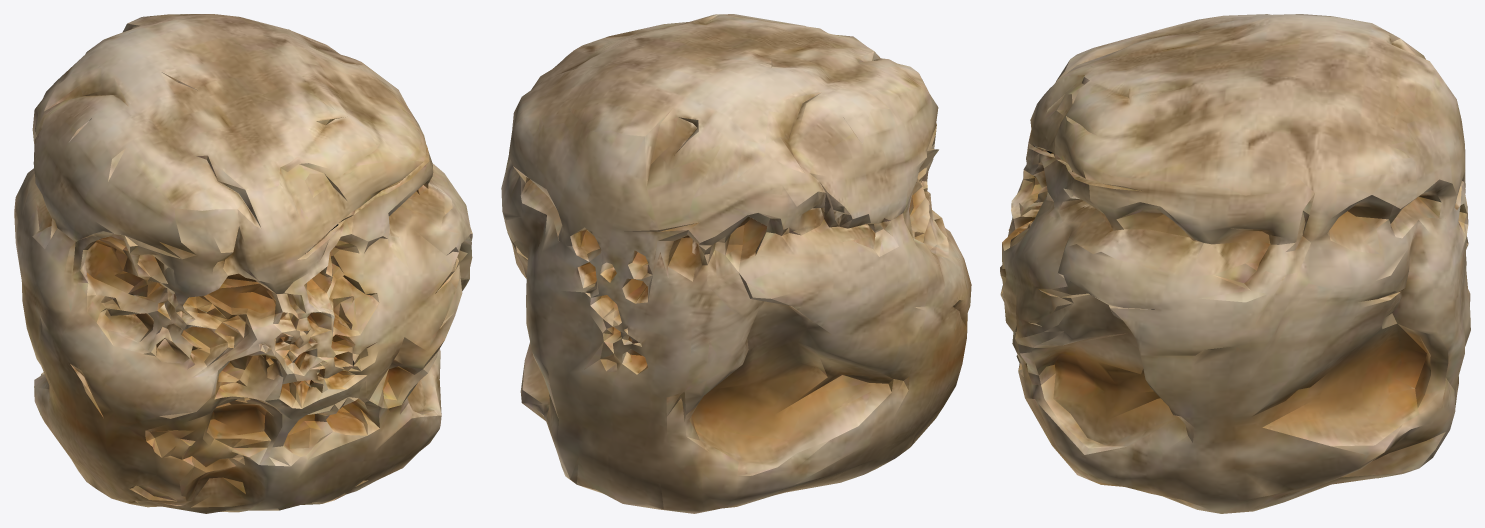
The model's file is isle_boulder_a.glb.
The picture shows the model from 3 angles, left to right: view 1: azimuth 30°, elevation 25°; view 2: azimuth 150°, elevation 25°; view 3: azimuth 270°, elevation 25°; orthographic projection. The views are drawn at different scales.
Visible parts, largest first — view 1: isle_boulder_a; view 2: isle_boulder_a; view 3: isle_boulder_a.
Part boxes in pixels (<box>): isle_boulder_a: <box>14,14,472,513</box>; isle_boulder_a: <box>501,14,971,513</box>; isle_boulder_a: <box>1000,14,1470,513</box>.
Bounding box in the file's own units: 0.999 × 1 × 0.9984.
Materials: 1 (1 with a texture image).
